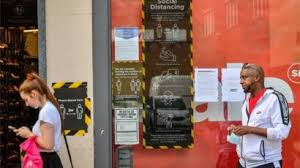Good: (4, 59, 292, 167)
